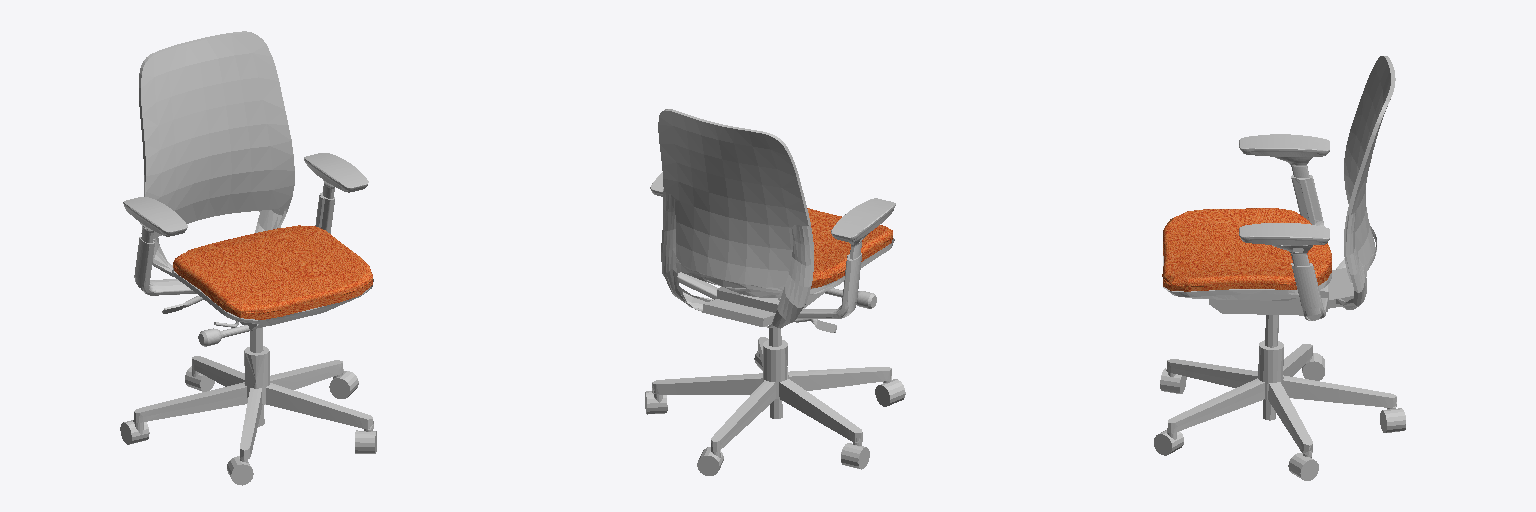
3 renders of one model, left to right at view 1: azimuth 30°, elevation 25°; view 2: azimuth 150°, elevation 25°; view 3: azimuth 270°, elevation 25°, orthographic.
Parts seen in each view (by area): view 1: Material1, Material2; view 2: Material1, Material2; view 3: Material1, Material2.
Part boxes in pixels (x1,y1,x2,y2): Material1: (120,31,376,485); Material2: (173,225,372,319); Material1: (645,109,905,475); Material2: (807,208,892,288); Material1: (1154,56,1405,480); Material2: (1162,208,1331,291).
Size of the model in its own units: 28.32 by 41.9 by 27.45.
2 materials, 2 textured.